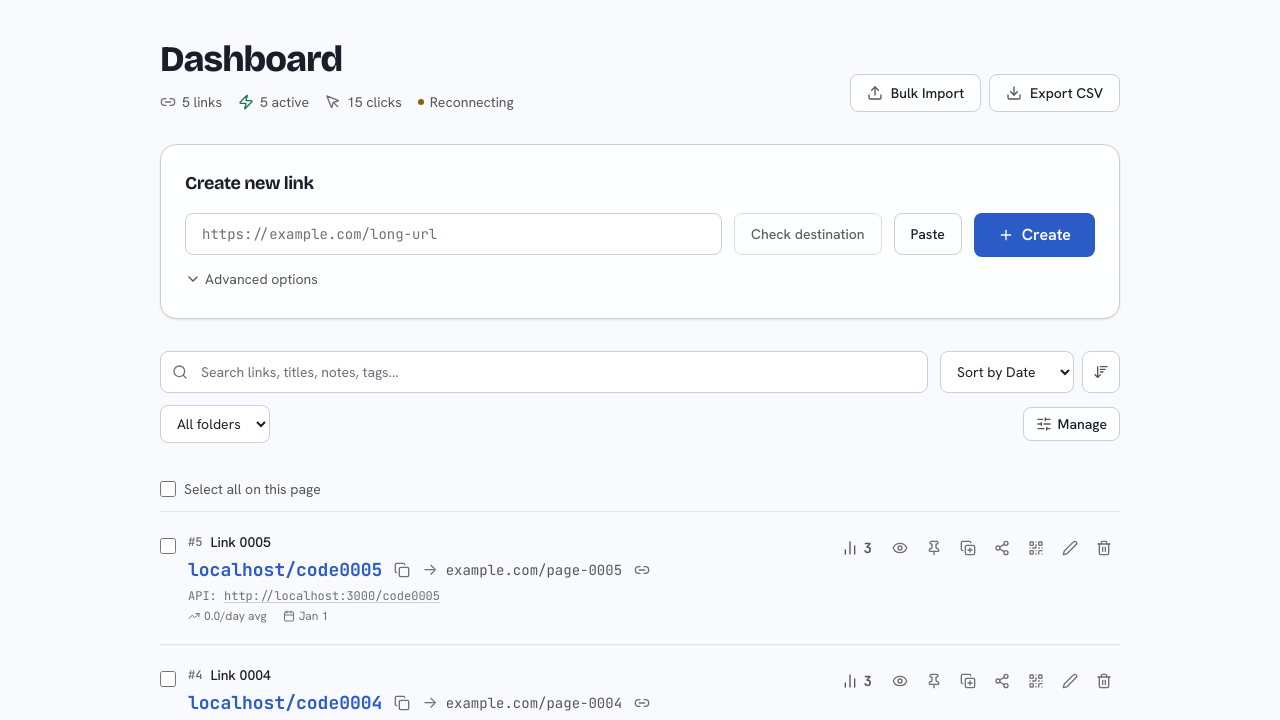
Dashboard paging › filters in the browser, with no request, when every link is loaded
In the search field labelled "Search links": coordinates (544, 372) left=160, top=351, right=928, bottom=393, type "Link 0003"
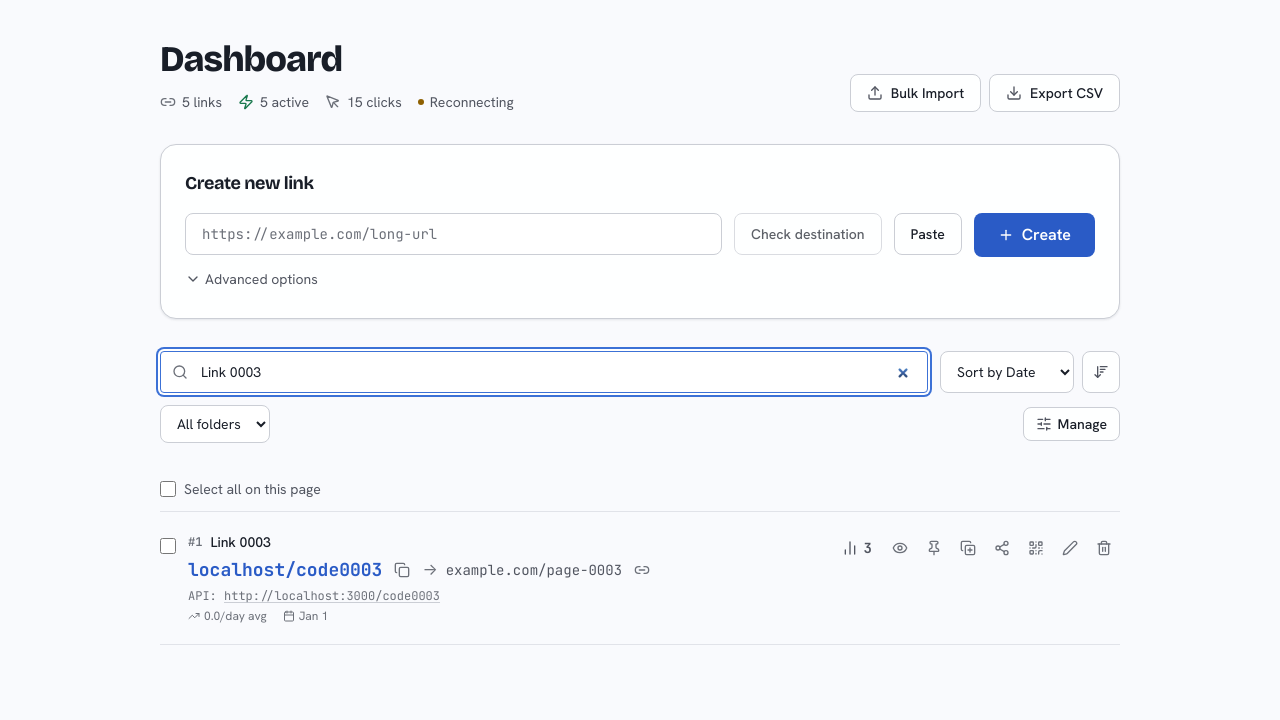
Expected: the text "Link 0003" is shown, left=210, top=532, right=271, bottom=552
Result: the text "Link 0004" is gone
